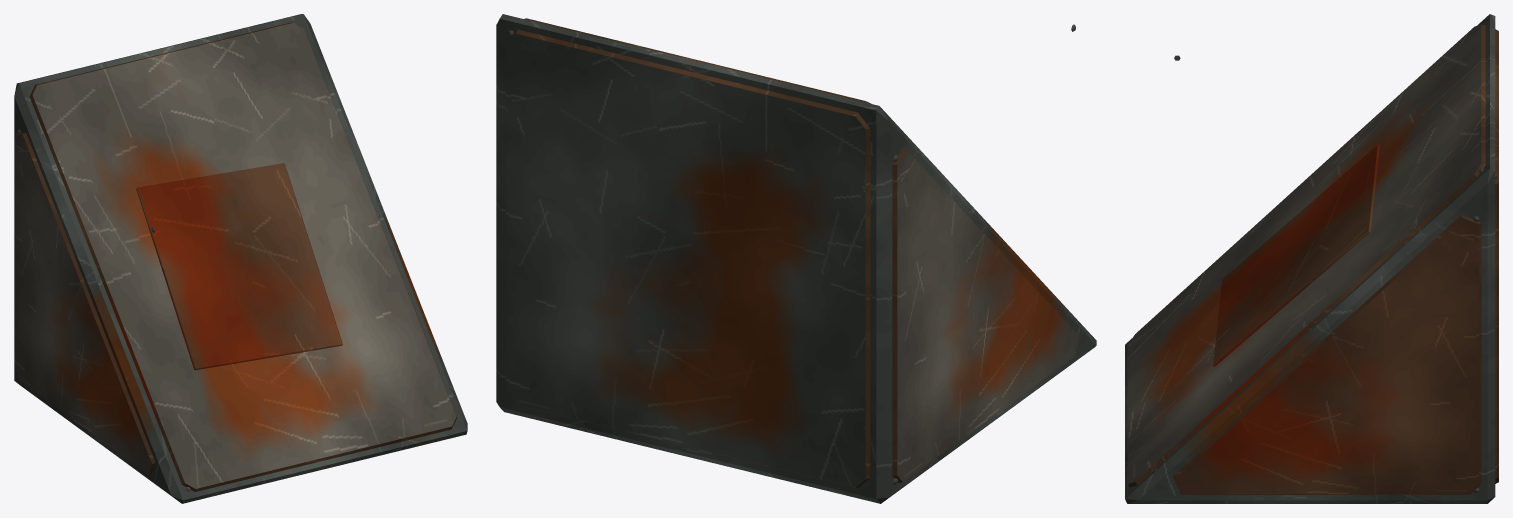
The model's file is R4B_Wedge.glb.
The picture shows the model from 3 angles, left to right: view 1: azimuth 30°, elevation 25°; view 2: azimuth 150°, elevation 25°; view 3: azimuth 270°, elevation 25°; orthographic projection. The views are drawn at different scales.
Parts seen in each view (by area): view 1: R4B_Wedge; view 2: R4B_Wedge; view 3: R4B_Wedge.
Part boxes in pixels (bbox=[...]): R4B_Wedge: bbox=[14, 14, 467, 503]; R4B_Wedge: bbox=[496, 14, 1096, 503]; R4B_Wedge: bbox=[1125, 14, 1498, 503].
Bounding box in the file's own units: 0.52 × 0.5008 × 0.5008.
Materials: 4 (4 with a texture image).
